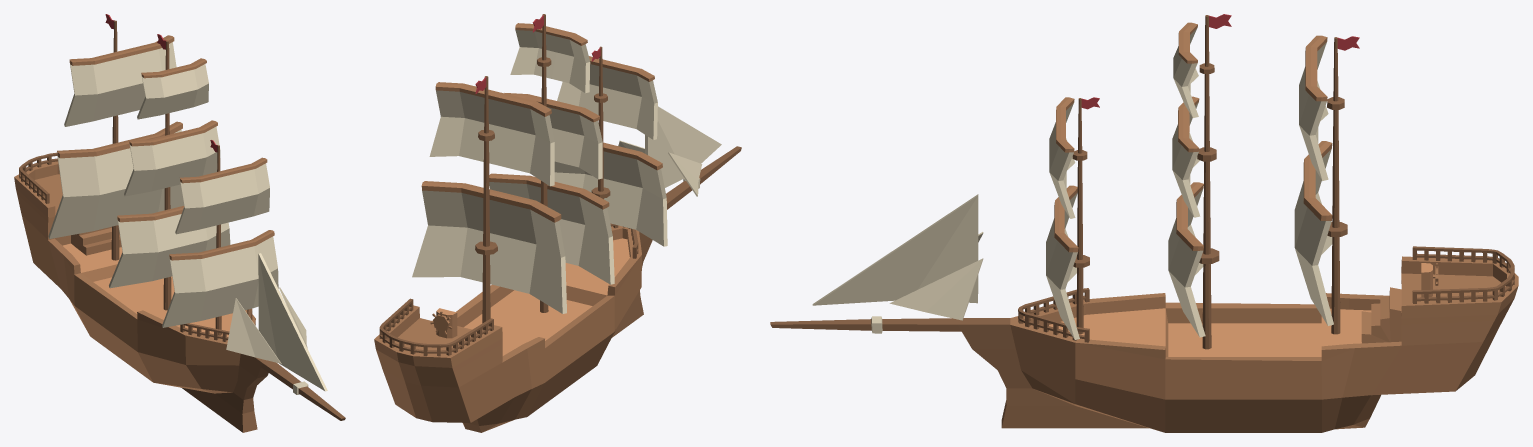
File: galion.glb
3 views of the same model, side by side, from view 1: azimuth 30°, elevation 25°; view 2: azimuth 150°, elevation 25°; view 3: azimuth 270°, elevation 25° (orthographic). The views are drawn at different scales.
Parts seen in each view (by area): view 1: BigShip, BackSail, MidleSail, Front_Sail; view 2: BigShip, BackSail, MidleSail, Front_Sail; view 3: BigShip, BackSail, MidleSail, Front_Sail.
Part boxes in pixels (box(x1,y1,x2,y2)): BigShip: box(14, 14, 345, 432); BackSail: box(48, 35, 183, 238); MidleSail: box(109, 58, 230, 288); Front_Sail: box(162, 157, 278, 327); BigShip: box(374, 14, 741, 432); BackSail: box(412, 82, 566, 313); MidleSail: box(489, 23, 614, 284); Front_Sail: box(554, 56, 667, 246); BigShip: box(770, 14, 1518, 432); BackSail: box(1294, 35, 1333, 325); MidleSail: box(1168, 22, 1205, 337); Front_Sail: box(1046, 97, 1079, 339).
Size of the model in its own units: 170 by 385 by 638.
